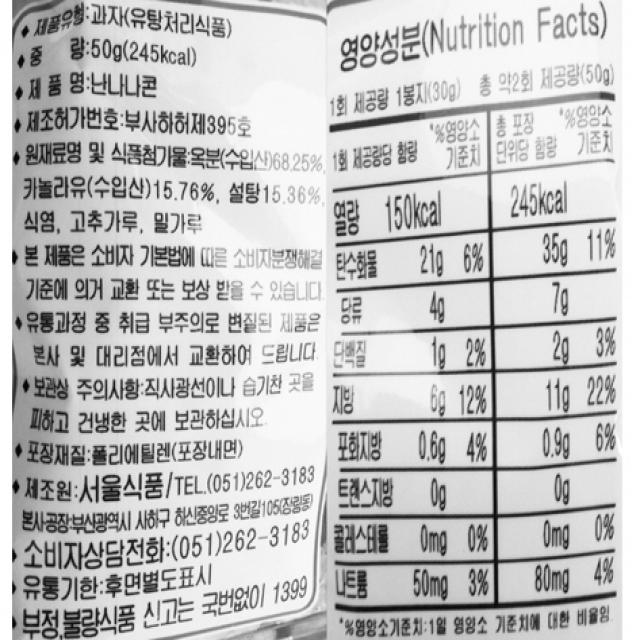Nutrition Label: (318, 0, 638, 640)
